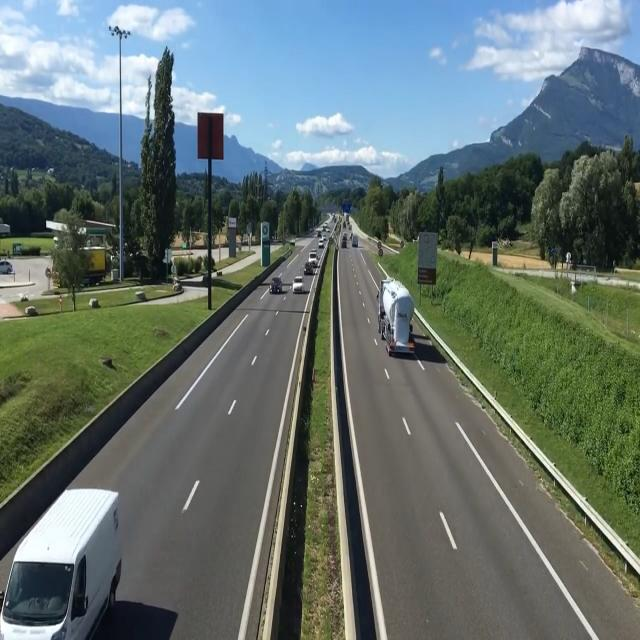car: (0, 489, 124, 635), (266, 274, 284, 297), (290, 274, 306, 297)
truck: (376, 274, 416, 360)
